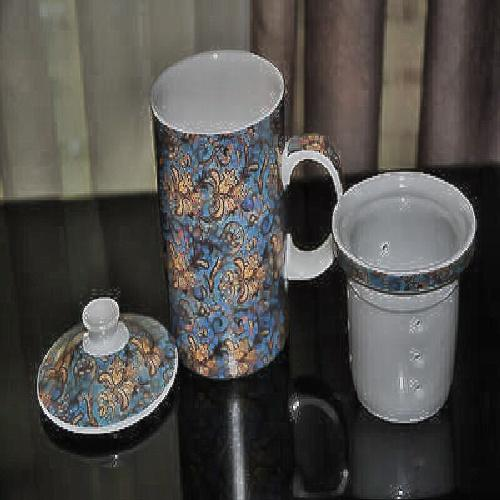mug: (149, 63, 316, 384), (342, 172, 475, 422)
